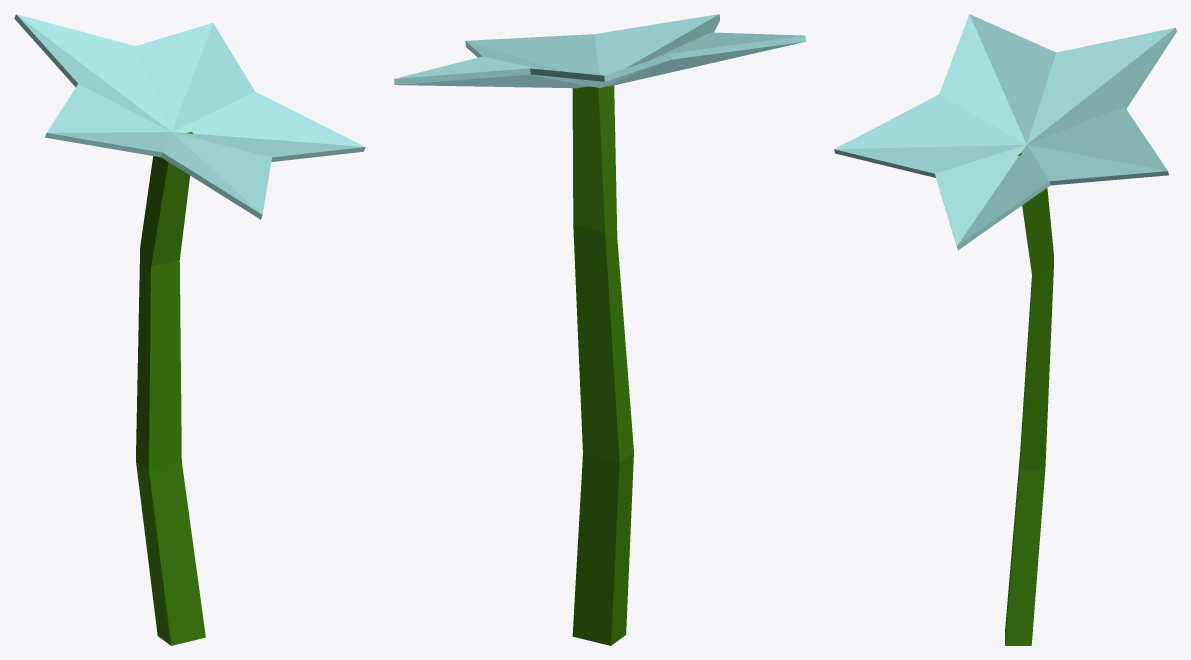
The model's file is Flower_d_03.fbx.
The picture shows the model from 3 angles, left to right: view 1: azimuth 30°, elevation 25°; view 2: azimuth 150°, elevation 25°; view 3: azimuth 270°, elevation 25°; orthographic projection. The views are drawn at different scales.
Visible parts, largest first — view 1: Flower_d_03_LOD0; view 2: Flower_d_03_LOD0; view 3: Flower_d_03_LOD0.
Part boxes in pixels (left/top/right/bottom): Flower_d_03_LOD0: left=14, top=14, right=365, bottom=645; Flower_d_03_LOD0: left=394, top=14, right=805, bottom=645; Flower_d_03_LOD0: left=834, top=14, right=1176, bottom=645.
Size of what is drawn, in the model's own units: 2.01 by 3.58 by 1.96.
